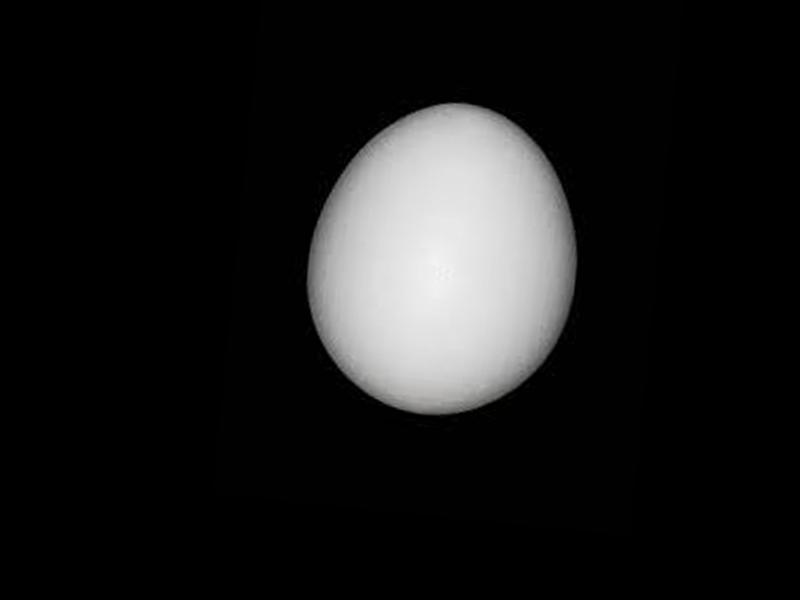Eggs: (295, 92, 591, 426)
